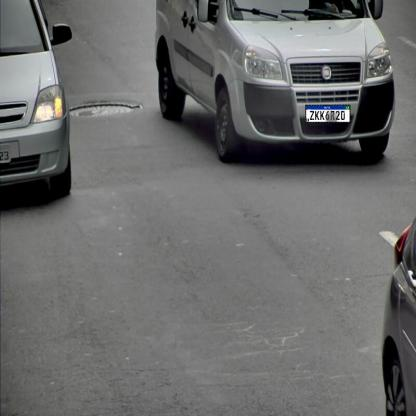PlacaM: (306, 104, 350, 122)
